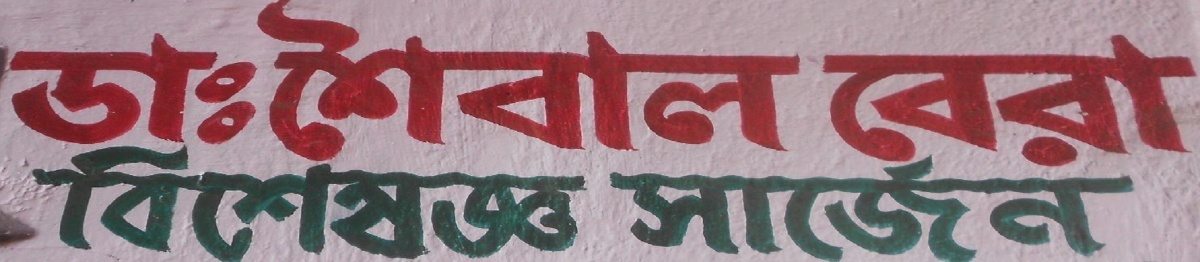text: (257, 1, 272, 164), (273, 1, 288, 164), (289, 1, 304, 164), (305, 1, 320, 164), (321, 1, 336, 164), (337, 1, 352, 164), (353, 1, 368, 164), (369, 1, 384, 164), (385, 1, 400, 164), (401, 1, 416, 164), (417, 1, 432, 164), (433, 1, 448, 164), (449, 1, 464, 164), (465, 1, 480, 164), (481, 1, 496, 164), (497, 1, 512, 164), (513, 1, 528, 164), (529, 1, 544, 164), (545, 1, 560, 164), (561, 1, 576, 164), (577, 1, 592, 164), (593, 1, 608, 164), (609, 1, 624, 164), (625, 1, 640, 164), (641, 1, 656, 164), (657, 1, 672, 164), (673, 1, 688, 164), (689, 1, 704, 164), (705, 1, 720, 164), (721, 1, 736, 164), (737, 1, 752, 164), (753, 1, 768, 164), (769, 1, 784, 164), (785, 1, 800, 164), (833, 35, 848, 165), (849, 35, 864, 165), (865, 35, 880, 165), (881, 35, 896, 165), (897, 35, 912, 165), (913, 35, 928, 165), (929, 35, 944, 165), (945, 35, 960, 165), (961, 35, 976, 165), (977, 35, 992, 165), (993, 35, 1008, 165), (1009, 35, 1024, 165), (1025, 35, 1040, 165), (1041, 35, 1056, 165), (1057, 35, 1072, 165), (1073, 35, 1088, 165), (1089, 35, 1104, 165), (1105, 35, 1120, 165), (1121, 35, 1136, 165), (1137, 35, 1152, 165), (1153, 35, 1168, 165), (1169, 35, 1184, 165), (17, 28, 32, 148), (33, 28, 48, 148), (49, 28, 64, 148), (65, 28, 80, 148), (81, 28, 96, 148), (97, 28, 112, 148), (113, 28, 128, 148), (129, 28, 144, 148), (145, 28, 160, 148), (161, 28, 176, 148), (177, 28, 192, 148), (193, 28, 208, 148), (209, 28, 224, 148), (225, 28, 240, 148), (241, 28, 256, 148), (33, 143, 48, 261), (49, 143, 64, 261), (65, 143, 80, 261), (81, 143, 96, 261), (97, 143, 112, 261), (113, 143, 128, 261), (129, 143, 144, 261), (145, 143, 160, 261), (161, 143, 176, 261), (177, 143, 192, 261), (193, 143, 208, 261), (209, 143, 224, 261), (225, 143, 240, 261), (241, 143, 256, 261), (257, 143, 272, 261), (273, 143, 288, 261), (289, 143, 304, 261), (305, 143, 320, 261), (321, 143, 336, 261), (337, 143, 352, 261), (353, 143, 368, 261), (369, 143, 384, 261), (385, 143, 400, 261), (401, 143, 416, 261), (417, 143, 432, 261), (433, 143, 448, 261), (449, 143, 464, 261), (465, 143, 480, 261), (481, 143, 496, 261), (497, 143, 512, 261), (513, 143, 528, 261), (529, 143, 544, 261), (545, 143, 560, 261), (561, 143, 576, 261), (609, 155, 624, 262), (625, 155, 640, 262), (641, 155, 656, 262), (657, 155, 672, 262), (673, 155, 688, 262), (689, 155, 704, 262), (705, 155, 720, 262), (721, 155, 736, 262), (737, 155, 752, 262), (753, 155, 768, 262), (769, 155, 784, 262), (785, 155, 800, 262), (801, 155, 816, 262), (817, 155, 832, 262), (833, 155, 848, 262), (849, 155, 864, 262), (865, 155, 880, 262), (881, 155, 896, 262), (897, 155, 912, 262), (913, 155, 928, 262), (929, 155, 944, 262), (945, 155, 960, 262), (961, 155, 976, 262), (977, 155, 992, 262), (993, 155, 1008, 262), (1009, 155, 1024, 262), (1025, 155, 1040, 262), (1041, 155, 1056, 262), (1057, 155, 1072, 262), (1073, 155, 1088, 262), (1089, 155, 1104, 262), (1105, 155, 1120, 262), (1121, 155, 1136, 262), (1185, 35, 1196, 165), (822, 35, 832, 165), (577, 143, 588, 261), (8, 28, 16, 148), (801, 1, 806, 164), (257, 28, 263, 148), (30, 143, 32, 261), (255, 1, 256, 164), (1137, 155, 1138, 262)
